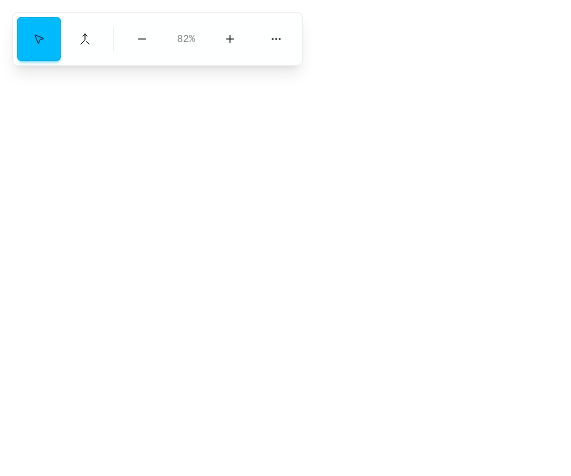
Test: ArchitectGraphToolbar › shows a compact gesture guide without exposing it by default
This screenshot has width=571, height=476.
Click the button named "More graph controls" at [276, 39], box [254,17,298,61]
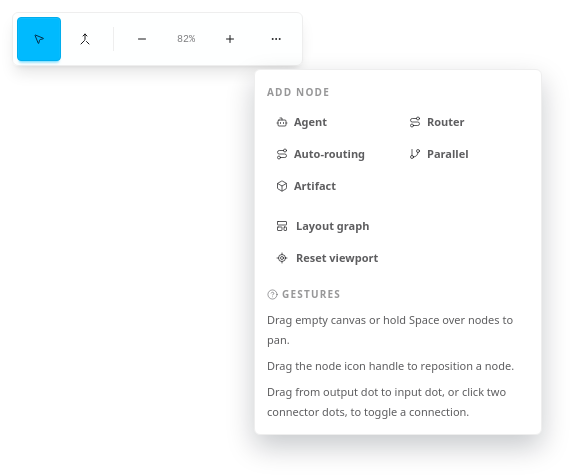
Expected: the element with test id "architect-gesture-guide" shows "hold Space over nodes to pan", [267,312,513,347]
Expected: the element with test id "architect-gesture-guide" shows "Drag the node icon handle", [267,358,514,373]
Expected: the element with test id "architect-gesture-guide" shows "Drag from output dot to input dot", [267,384,506,419]
